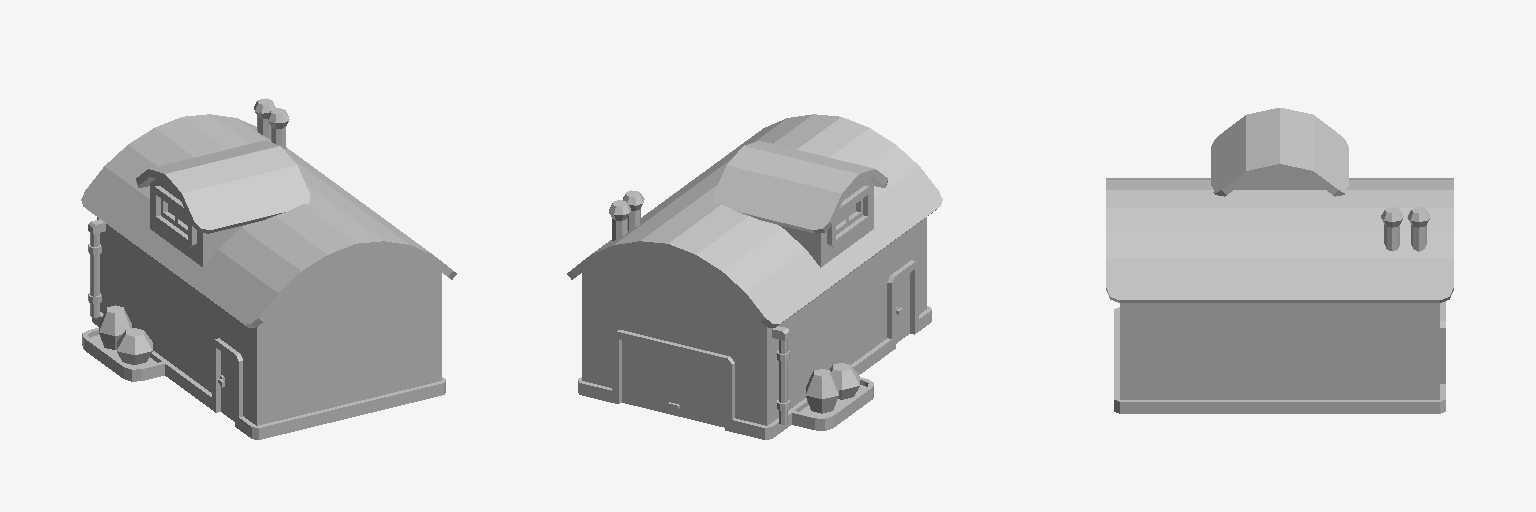
The model's file is industrial_building-j.obj.
The picture shows the model from 3 angles: view 1: azimuth 30°, elevation 25°; view 2: azimuth 150°, elevation 25°; view 3: azimuth 270°, elevation 25°; orthographic projection.
Visible parts, largest first — view 1: building-j; view 2: building-j; view 3: building-j.
Boxes of the visible parts, x1,y1,x2,y2 form: building-j: [81, 98, 456, 439]; building-j: [567, 114, 942, 439]; building-j: [1106, 108, 1453, 413].
Size of the model in its own units: 1.03 by 0.8611 by 1.3.